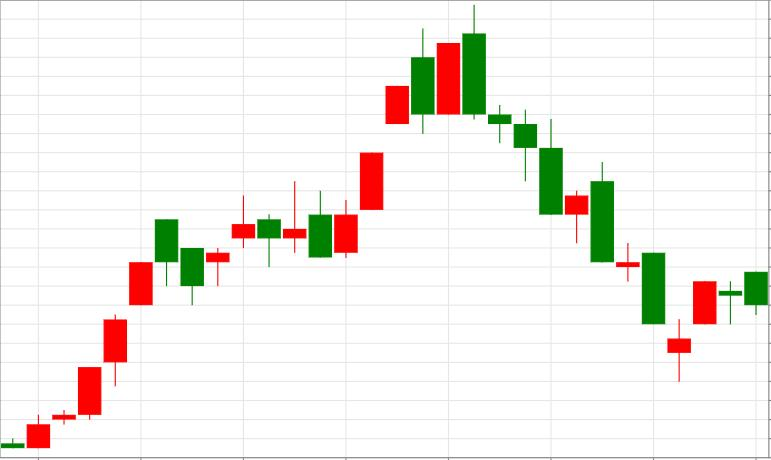bearish_engulfing_fall: (308, 4, 485, 258), (309, 28, 434, 259)
morning_star_rise: (463, 3, 716, 382)
